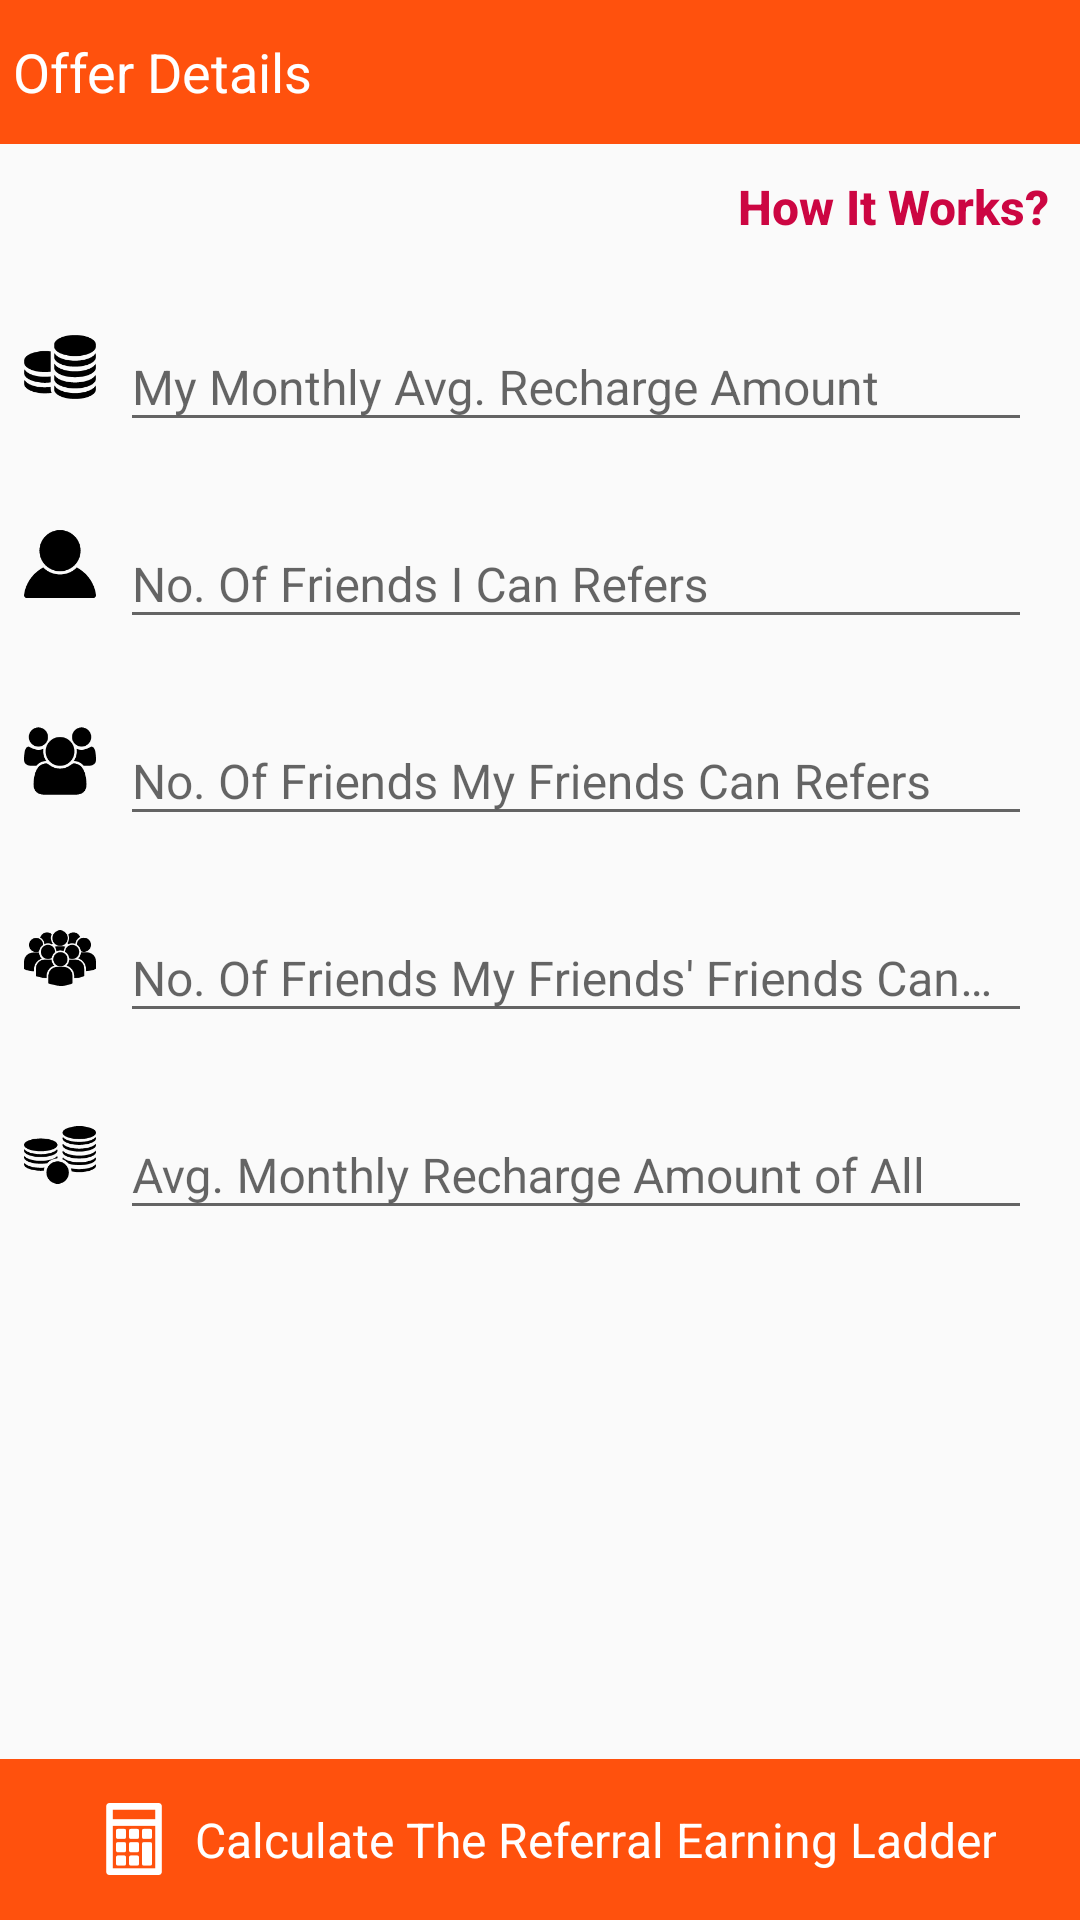

Locate icon controls on the screen. Image size 1080x1920, boxes as (x1, y1, x2, y2).
all avg: (24, 1126, 96, 1184)
avg: (24, 335, 96, 399)
calculator: (106, 1803, 162, 1875)
crowd: (24, 930, 96, 986)
